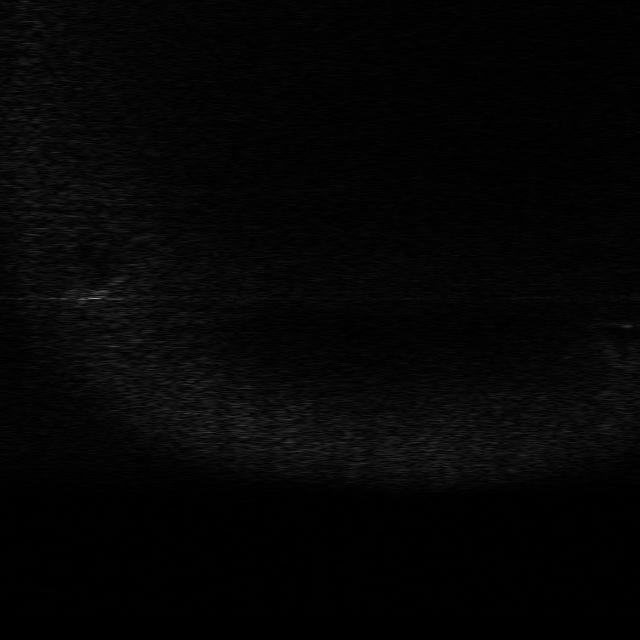plane: (58, 272, 128, 307)
